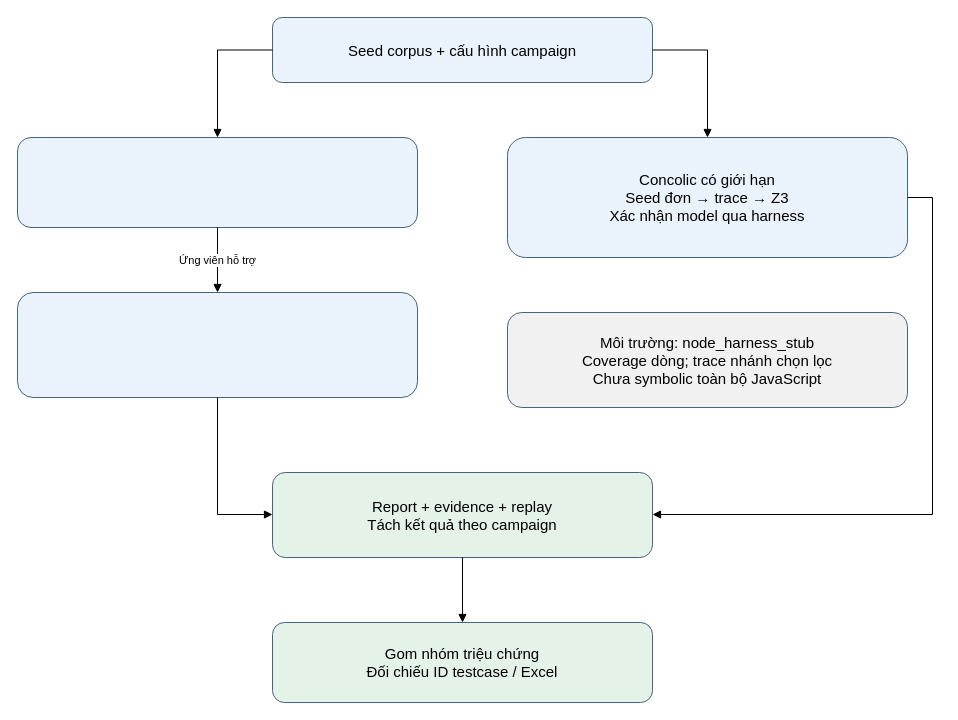
This 958x720 diagram has some shape labels left out. The shapes that lost their labels are listed below. From the top down, each one's centre as x and y in pixels, then its label:
At point (217, 182): "Blackbox Mutation → HTTP → oracle".
At point (217, 345): "Coverage-guided Replay → lân cận → mutation Giữ input mở thêm dòng".
